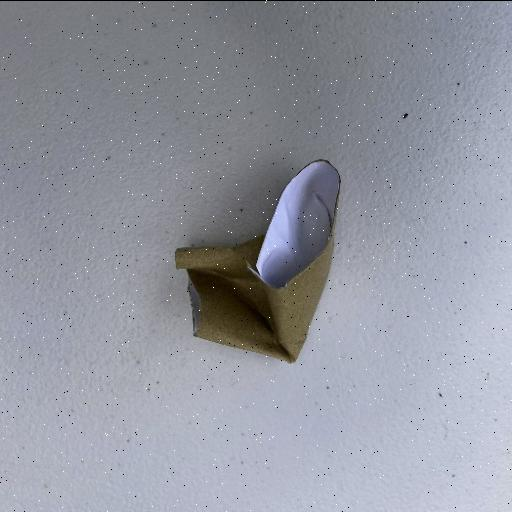Cardboard: (173, 158, 342, 364), (247, 158, 342, 290)
